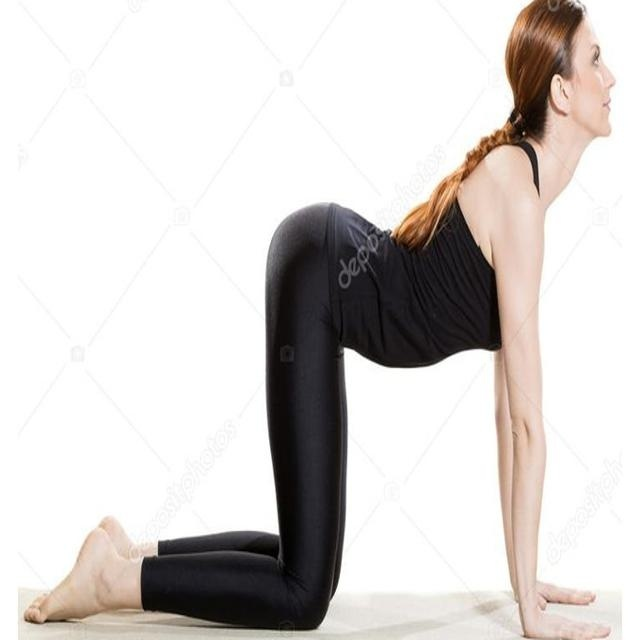Cow_Pose: (21, 4, 617, 637)
